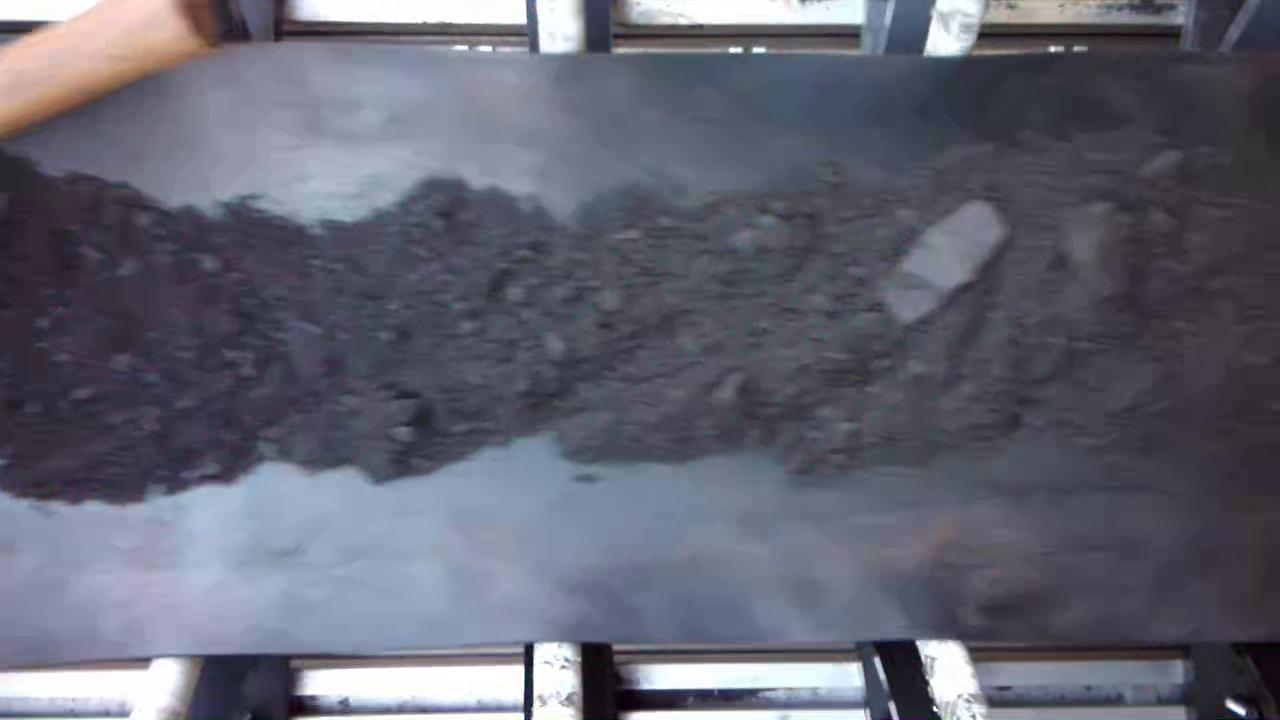conveyor: (7, 50, 1280, 647)
